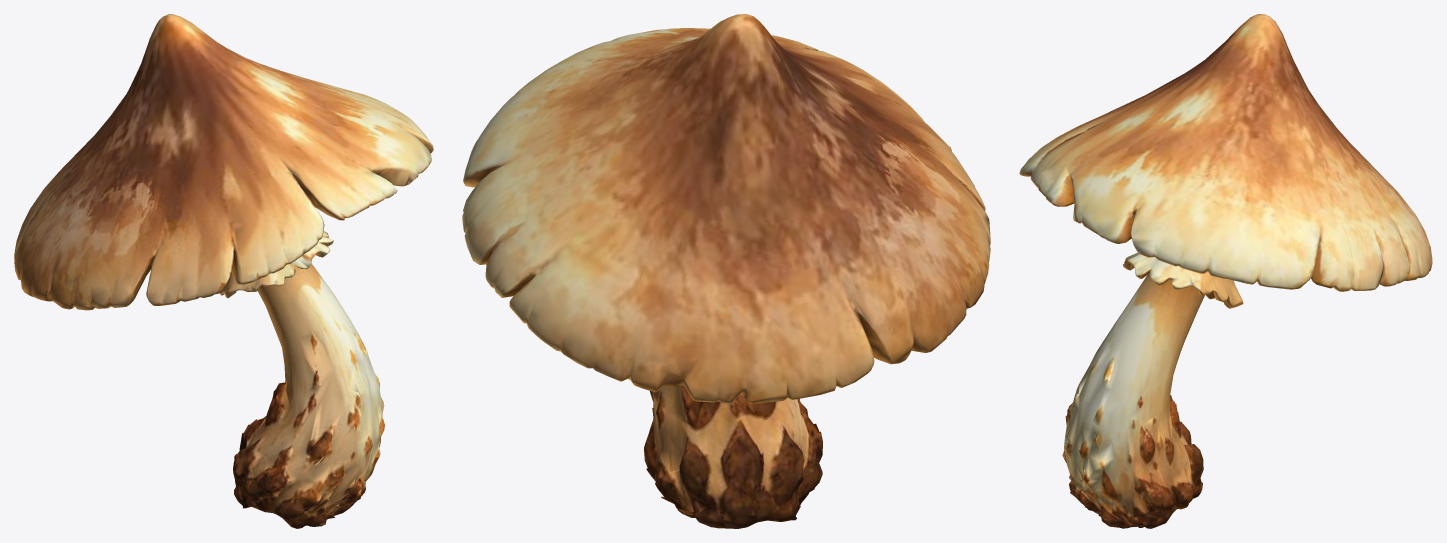
File: termite.glb
3 renders of one model, left to right at view 1: azimuth 30°, elevation 25°; view 2: azimuth 150°, elevation 25°; view 3: azimuth 270°, elevation 25°, orthographic. The views are drawn at different scales.
Parts seen in each view (by area): view 1: tripo_node_0a20969a-87aa-4cf5-a2ea-68bee33bbb79; view 2: tripo_node_0a20969a-87aa-4cf5-a2ea-68bee33bbb79; view 3: tripo_node_0a20969a-87aa-4cf5-a2ea-68bee33bbb79.
Boxes of the visible parts, bbox=[...] form: tripo_node_0a20969a-87aa-4cf5-a2ea-68bee33bbb79: bbox=[14, 14, 433, 528]; tripo_node_0a20969a-87aa-4cf5-a2ea-68bee33bbb79: bbox=[462, 14, 990, 528]; tripo_node_0a20969a-87aa-4cf5-a2ea-68bee33bbb79: bbox=[1019, 14, 1432, 528].
Size of the model in its own units: 0.8042 by 0.9787 by 0.7734.
1 material, 1 textured.
